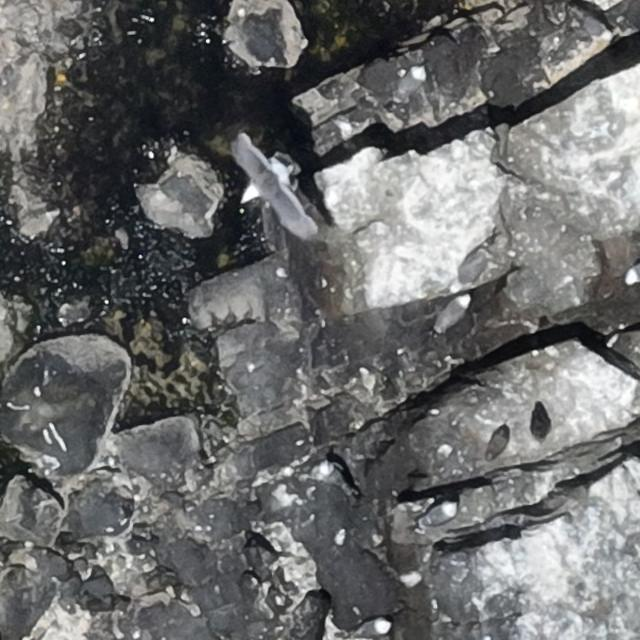F: (234, 141, 312, 232)
umineko: (450, 242, 494, 291), (392, 63, 428, 107), (439, 295, 467, 326), (423, 503, 455, 526), (582, 16, 609, 39), (356, 618, 388, 636), (624, 262, 639, 282)
